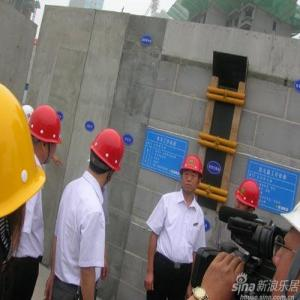red: (28, 106, 64, 166), (90, 129, 124, 185), (235, 181, 261, 218), (181, 154, 203, 196)
